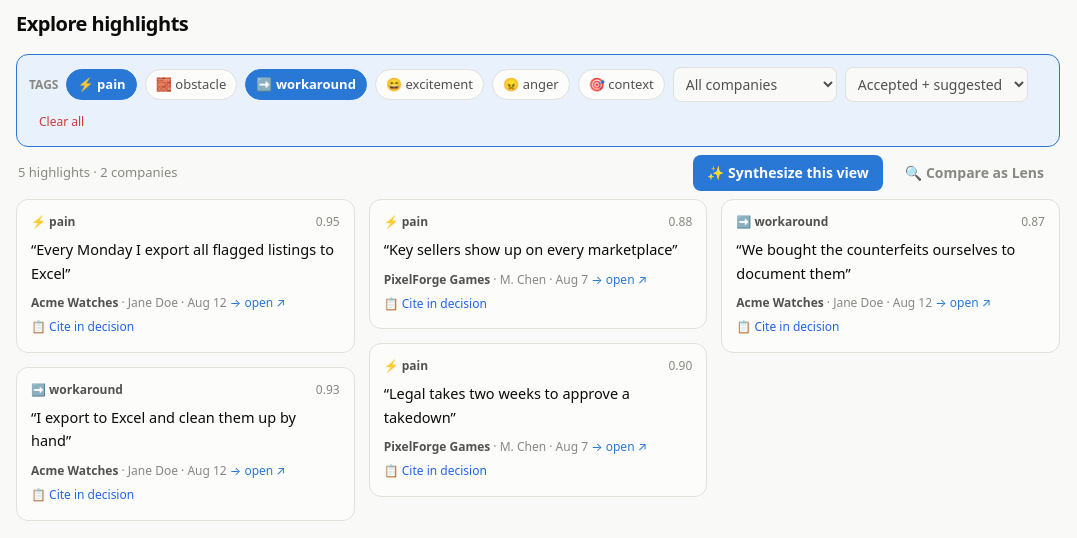
Scenario: Explore page › tag filter chips update results; active filters summarized in a bar
Expected: the text "5 highlights · 2 companies" is shown, x1=18 y1=162 x2=178 y2=184
// After toggling a tag off, the count should update
Click the button "⚡ pain": x=102, y=84 x1=66 y1=69 x2=137 y2=100
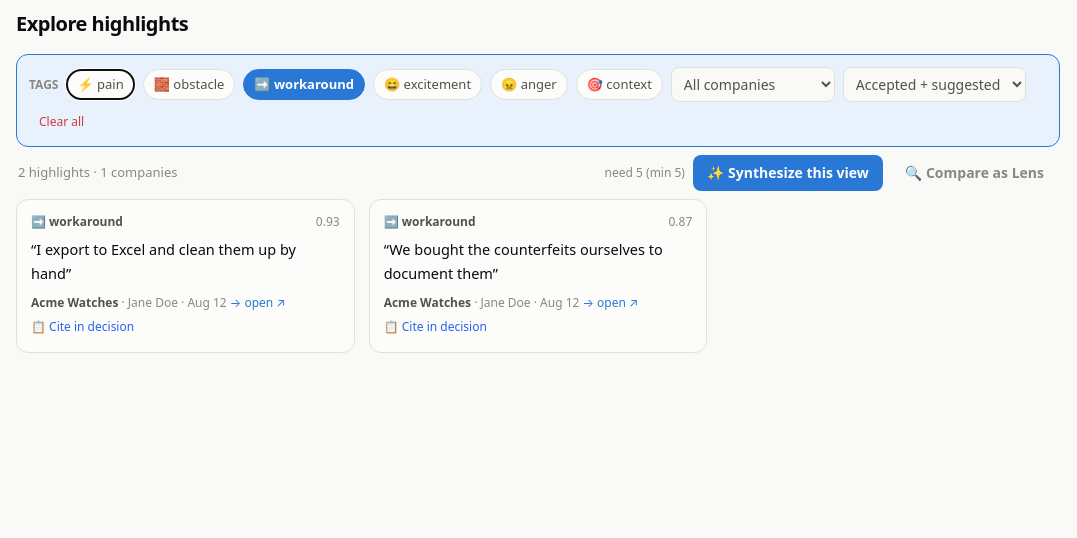
Now the text "5 highlights" is gone
